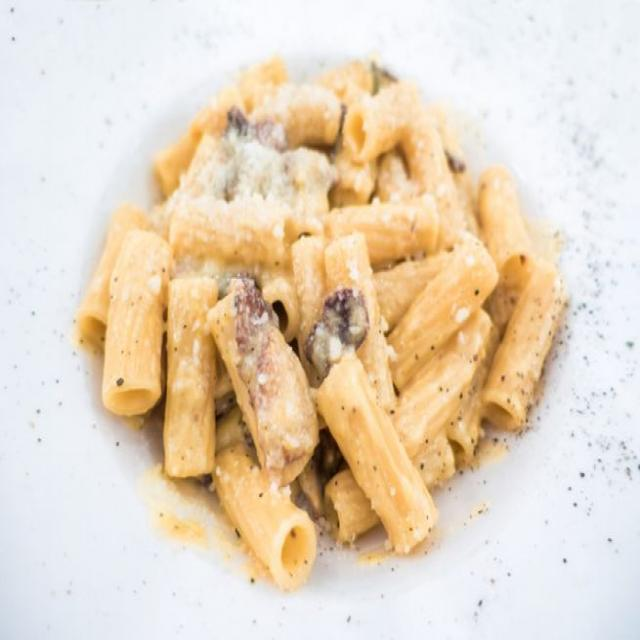Pasta with carbonara sauce: (87, 33, 605, 573)
